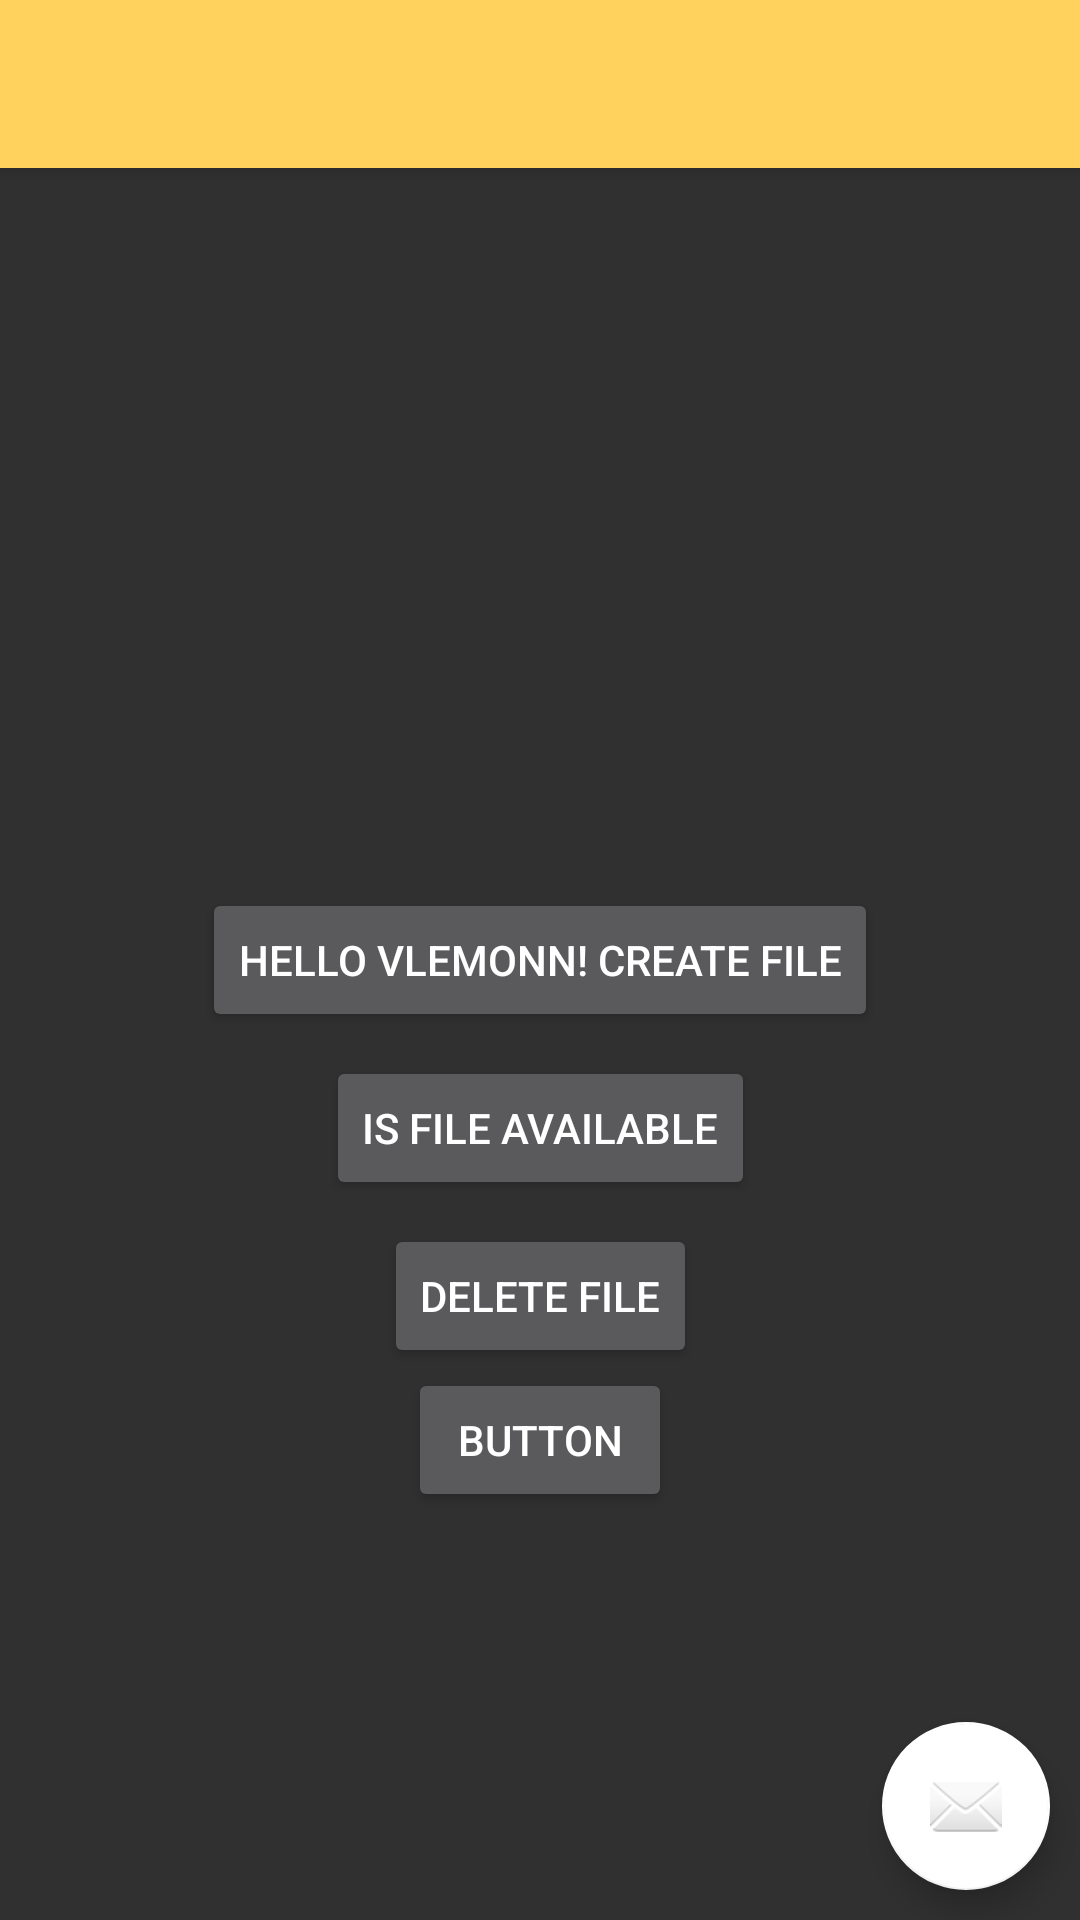

Named icons in this screenshot (1080×1920) and their bounding boxes, (x1, y1, x2, y2):
email: (882, 1722, 1050, 1890)
